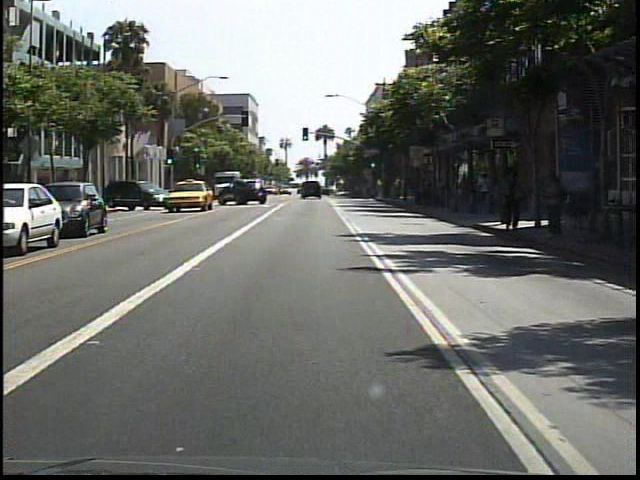person: (496, 162, 527, 237), (538, 168, 566, 241), (472, 168, 489, 209)
